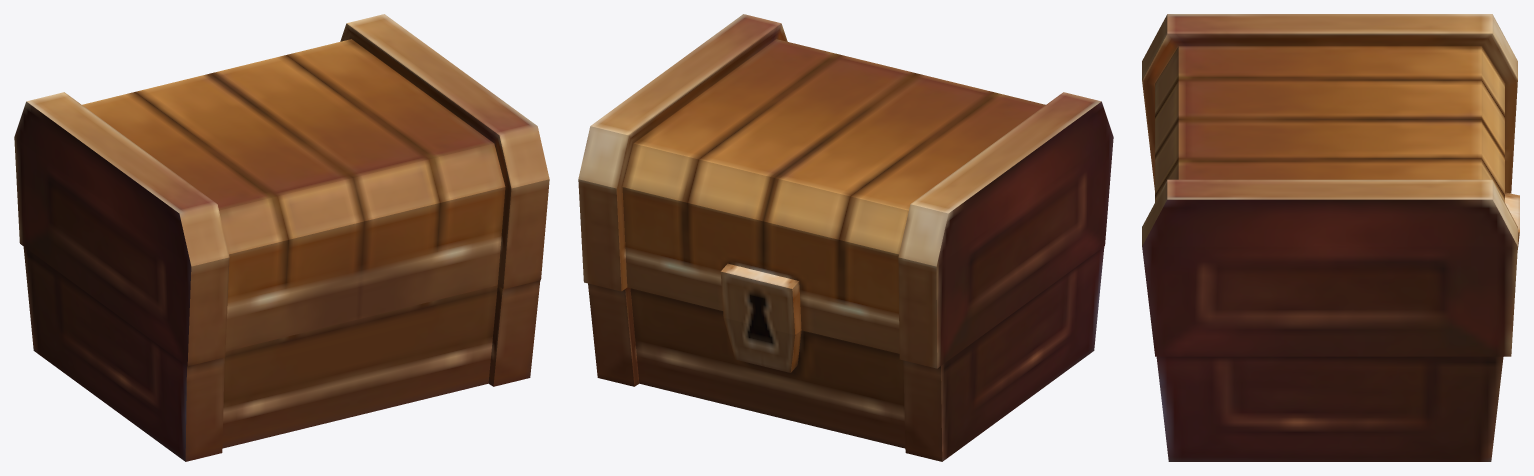
File: chest_1.FBX
The picture shows the model from 3 angles, left to right: view 1: azimuth 30°, elevation 25°; view 2: azimuth 150°, elevation 25°; view 3: azimuth 270°, elevation 25°; orthographic projection. The views are drawn at different scales.
Visible parts, largest first — view 1: chest_1; view 2: chest_1; view 3: chest_1.
Boxes of the visible parts, left/top/right/bottom form: chest_1: left=14, top=14, right=549, bottom=461; chest_1: left=578, top=14, right=1113, bottom=461; chest_1: left=1142, top=14, right=1519, bottom=461.
Bounding box in the file's own units: 76.37 × 51.13 × 65.7.
